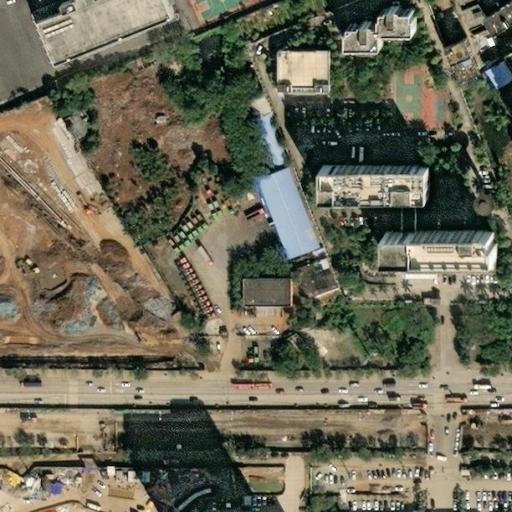building: (252, 159, 322, 260), (242, 89, 288, 169), (384, 213, 490, 244), (332, 166, 436, 197), (288, 250, 340, 300), (279, 52, 331, 89), (387, 12, 425, 36), (353, 25, 390, 49), (485, 63, 512, 91), (472, 32, 497, 61), (459, 6, 484, 31), (451, 47, 477, 70), (452, 65, 475, 85), (128, 54, 151, 70), (501, 20, 512, 42), (373, 504, 401, 512), (142, 67, 155, 80), (147, 84, 159, 98), (243, 296, 258, 306), (317, 501, 326, 512), (350, 315, 356, 327), (343, 310, 356, 315), (404, 508, 412, 512)
